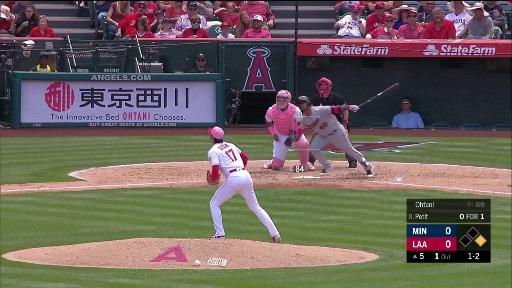pitcher: (203, 127, 281, 243)
